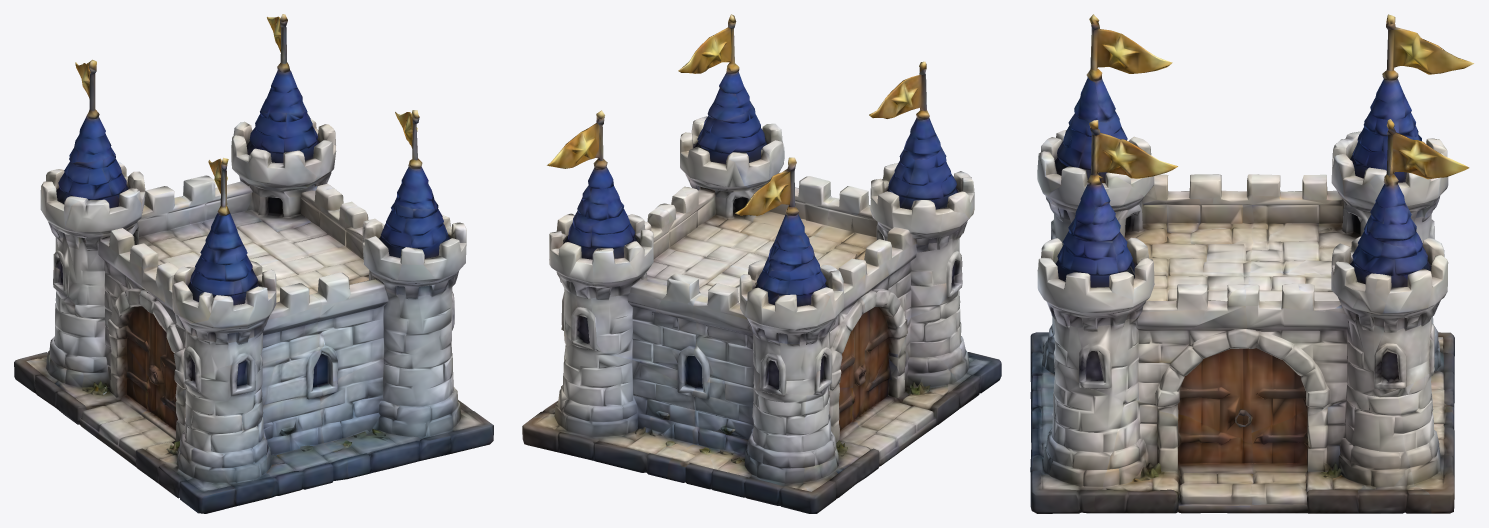
Rendered from stronghold-low.glb.
3 renders of one model, left to right at view 1: azimuth 30°, elevation 25°; view 2: azimuth 150°, elevation 25°; view 3: azimuth 270°, elevation 25°, orthographic. The views are drawn at different scales.
Visible parts, largest first — view 1: tripo_node_7bb1924c-1af9-4d30-9045-656bc50eccb8; view 2: tripo_node_7bb1924c-1af9-4d30-9045-656bc50eccb8; view 3: tripo_node_7bb1924c-1af9-4d30-9045-656bc50eccb8.
Boxes of the visible parts, <box> form: tripo_node_7bb1924c-1af9-4d30-9045-656bc50eccb8: <box>14,14,493,513</box>; tripo_node_7bb1924c-1af9-4d30-9045-656bc50eccb8: <box>522,14,1001,513</box>; tripo_node_7bb1924c-1af9-4d30-9045-656bc50eccb8: <box>1030,14,1473,513</box>.
Bounding box in the file's own units: 0.8655 × 0.9095 × 0.9998.
Materials: 1 (1 with a texture image).
